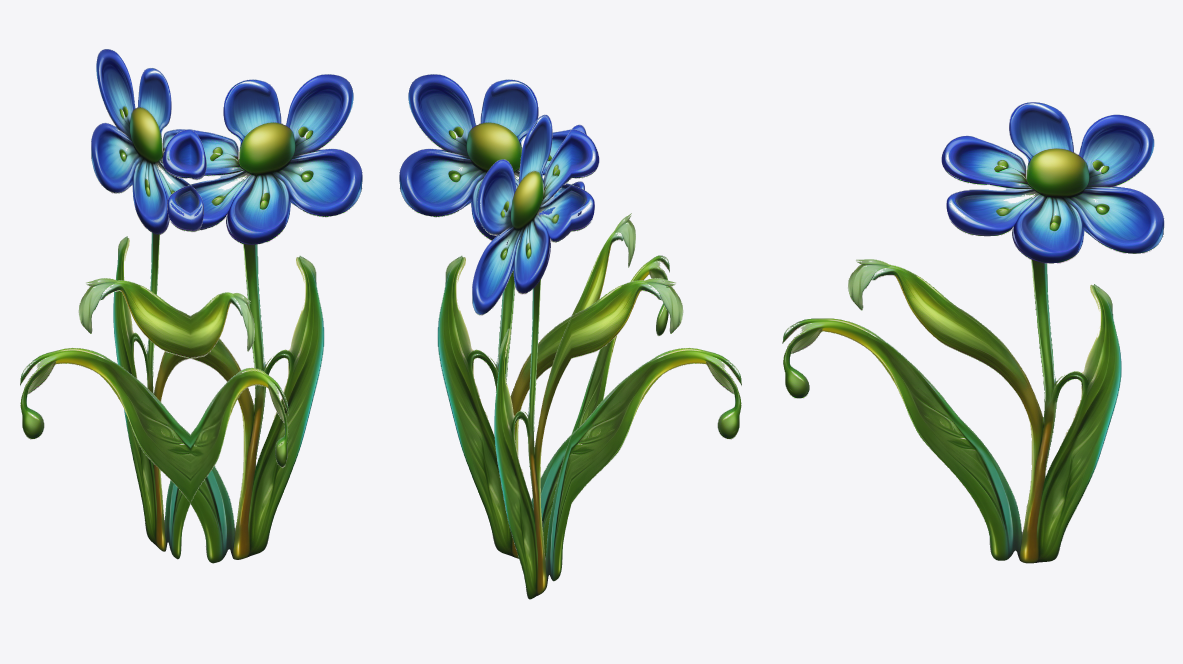
Rendered from flower_2.glb.
3 views of the same model, side by side, from view 1: azimuth 30°, elevation 25°; view 2: azimuth 150°, elevation 25°; view 3: azimuth 270°, elevation 25° (orthographic). The views are drawn at different scales.
Visible parts, largest first — view 1: Leaves; view 2: Leaves; view 3: Leaves.
Boxes of the visible parts, x1,y1,x2,y2 form: Leaves: [20, 49, 362, 563]; Leaves: [399, 74, 741, 599]; Leaves: [782, 102, 1164, 563].
Bounding box in the file's own units: 0.3782 × 0.5 × 0.3782.
1 material, 1 textured.
